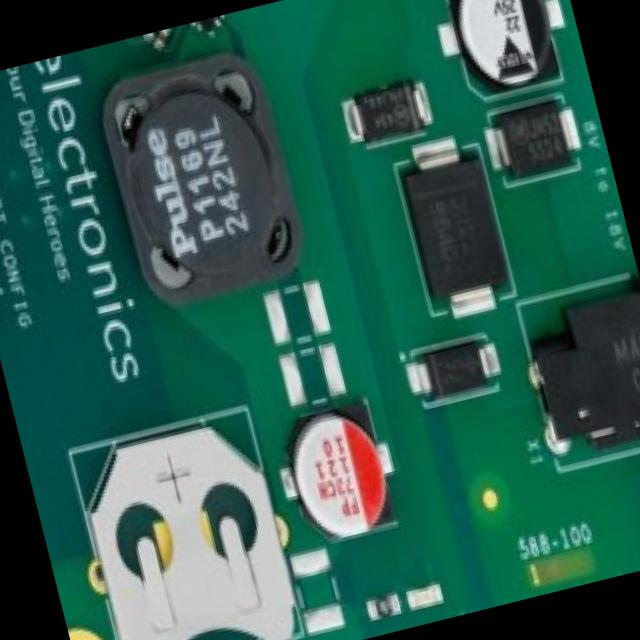capacitor: (274, 399, 398, 542), (434, 0, 564, 99)
diode: (388, 136, 515, 318), (487, 101, 578, 189), (400, 331, 500, 409), (342, 70, 433, 150)
resistor: (366, 590, 400, 625)
